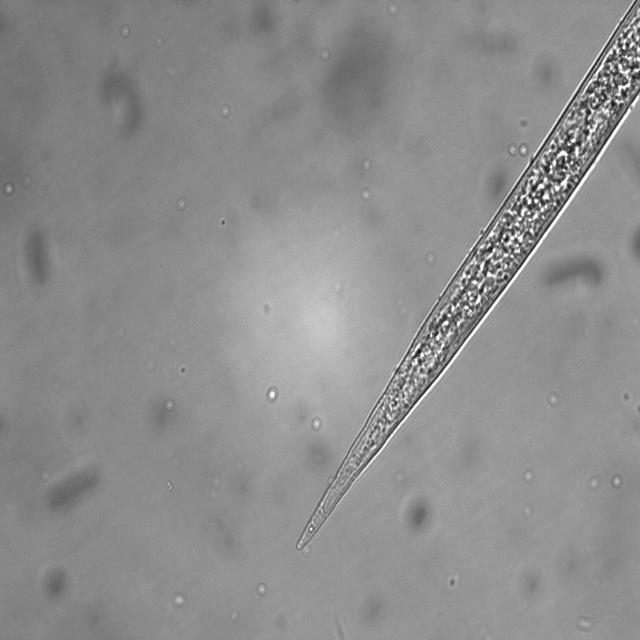Meloidogyne: (288, 0, 640, 564)
